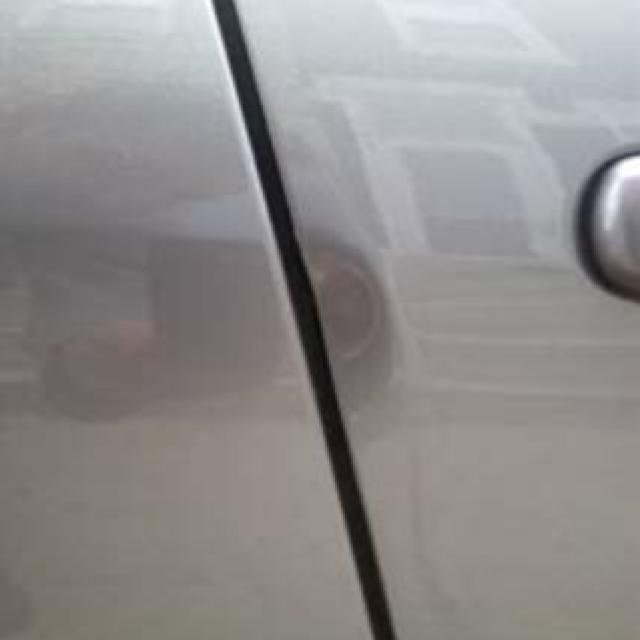dents: (30, 226, 393, 419)
